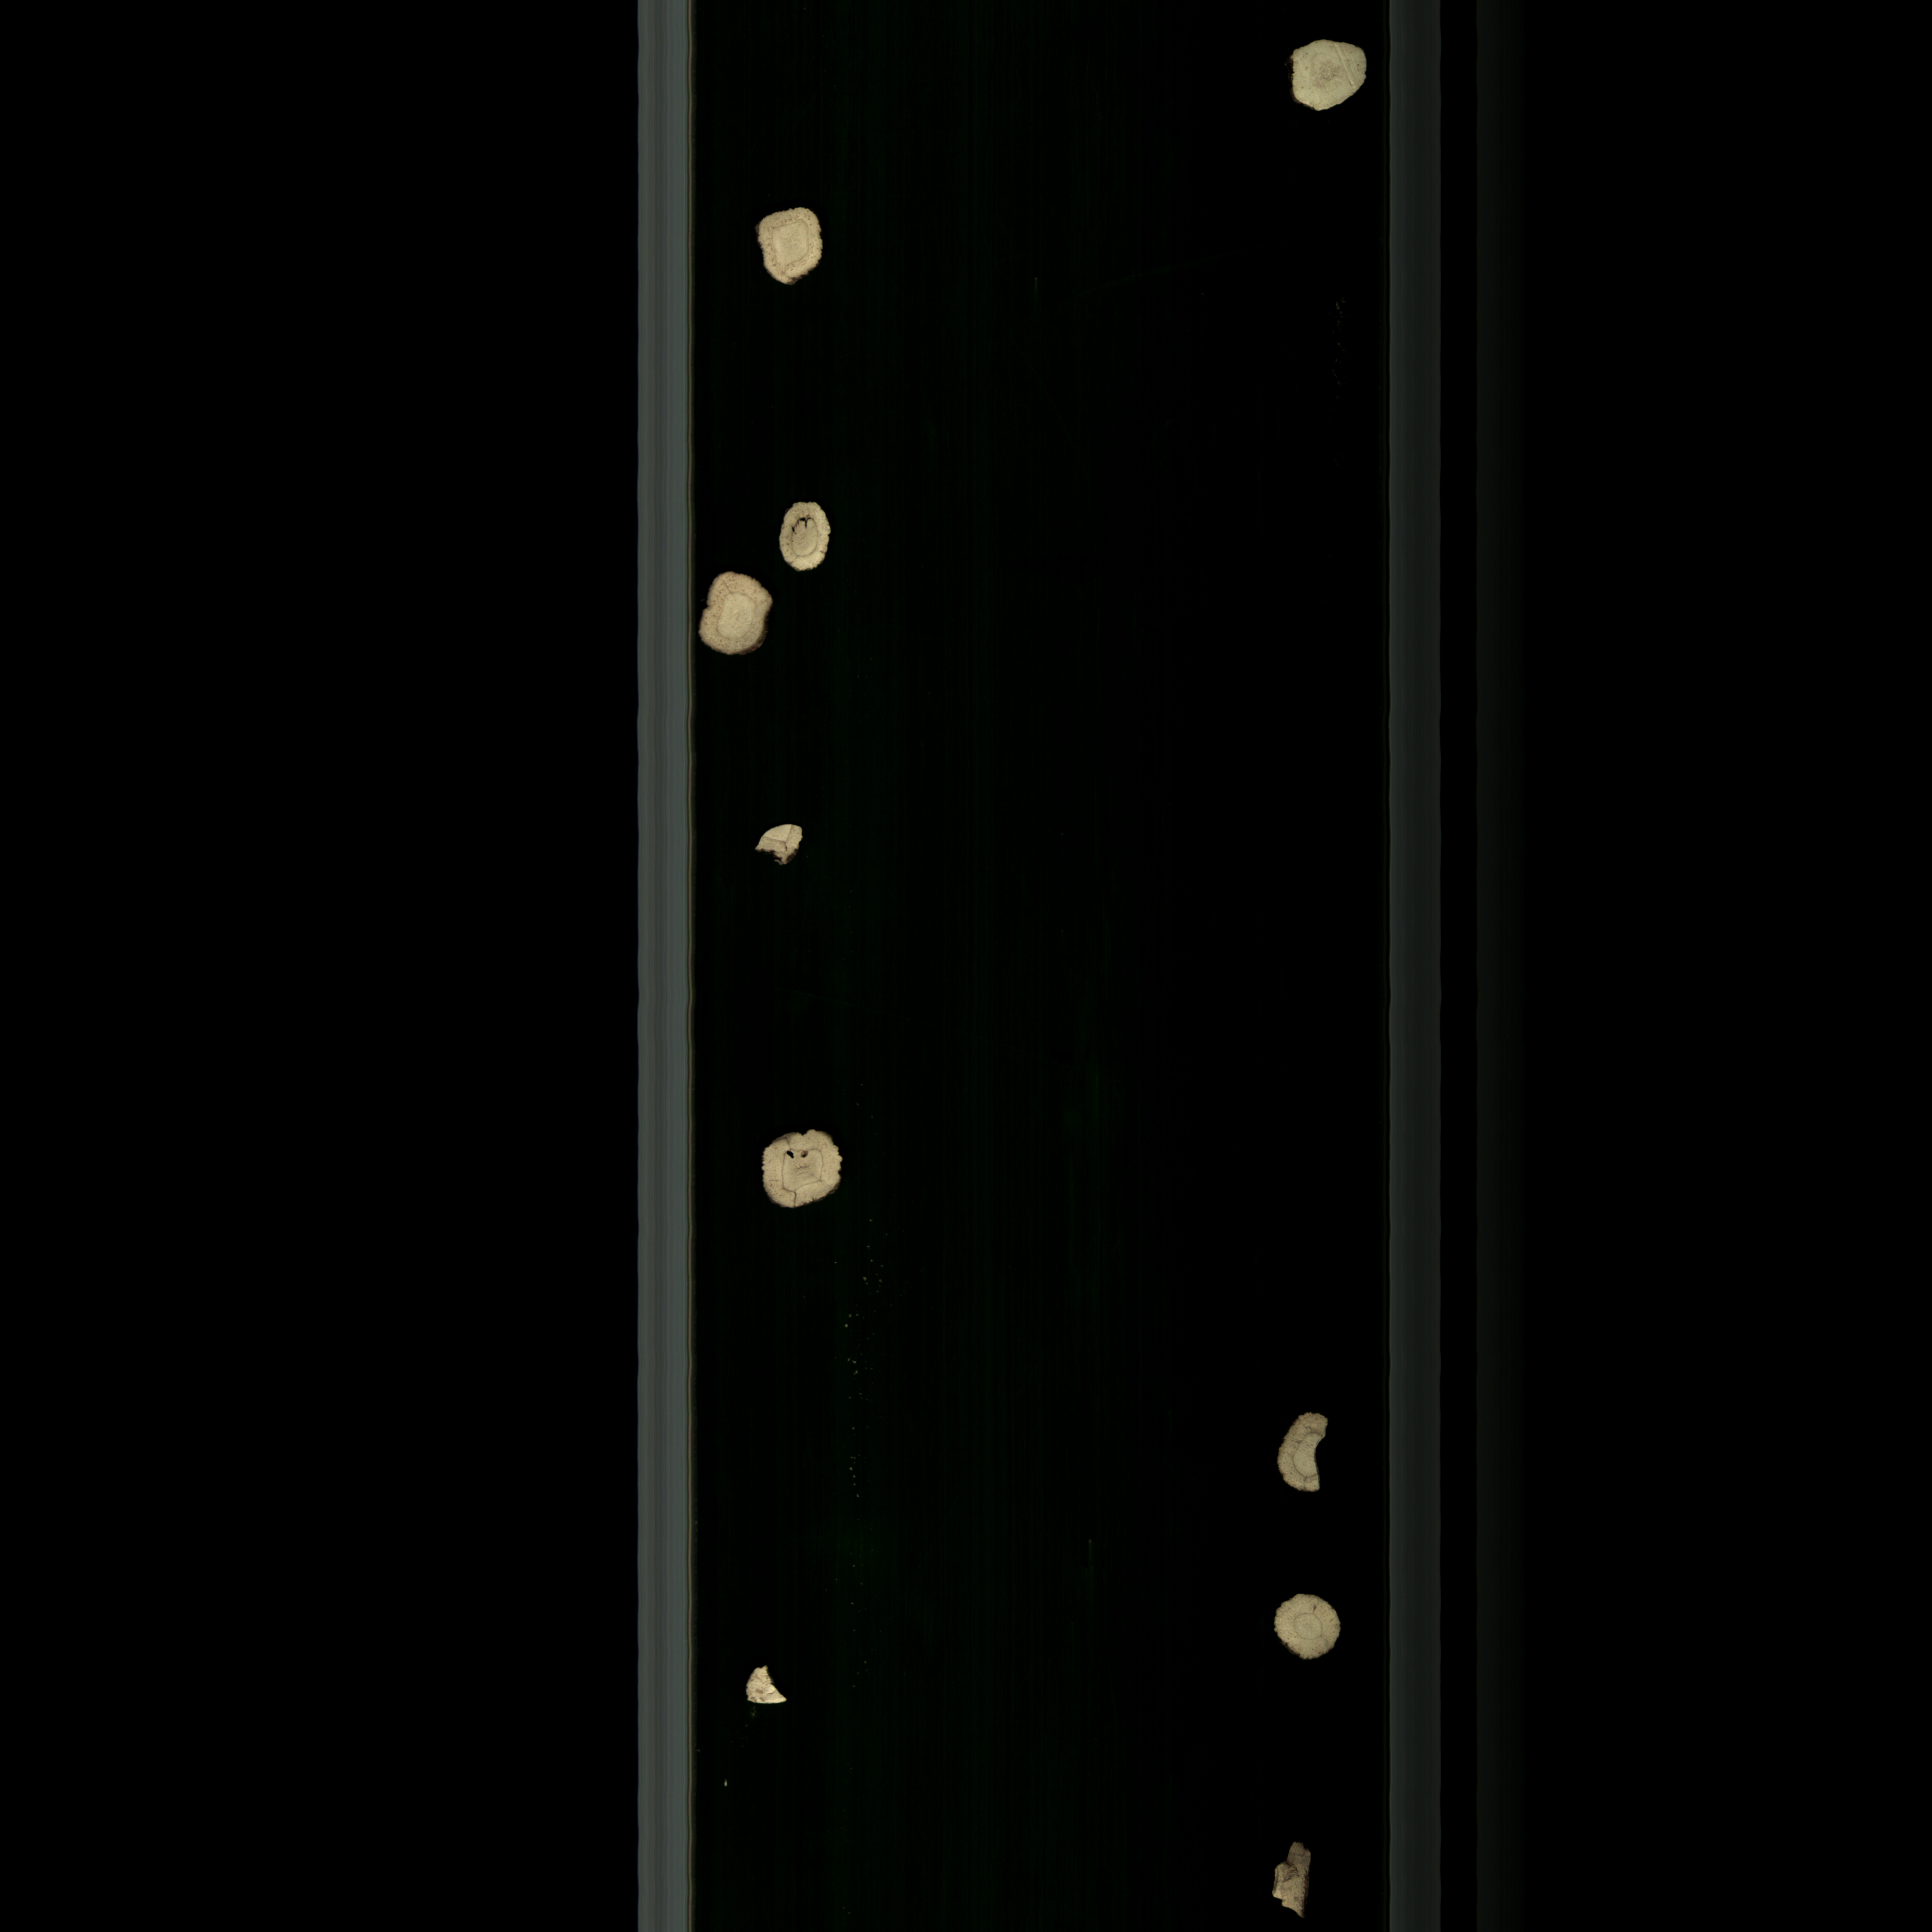debris: (1279, 28, 1375, 126), (1274, 1399, 1346, 1500)
distortion: (747, 209, 839, 295)
dreg: (722, 1658, 801, 1729), (752, 812, 814, 878)
hole: (745, 1118, 869, 1226), (761, 495, 846, 571)
moldy: (1256, 1835, 1329, 1930)
